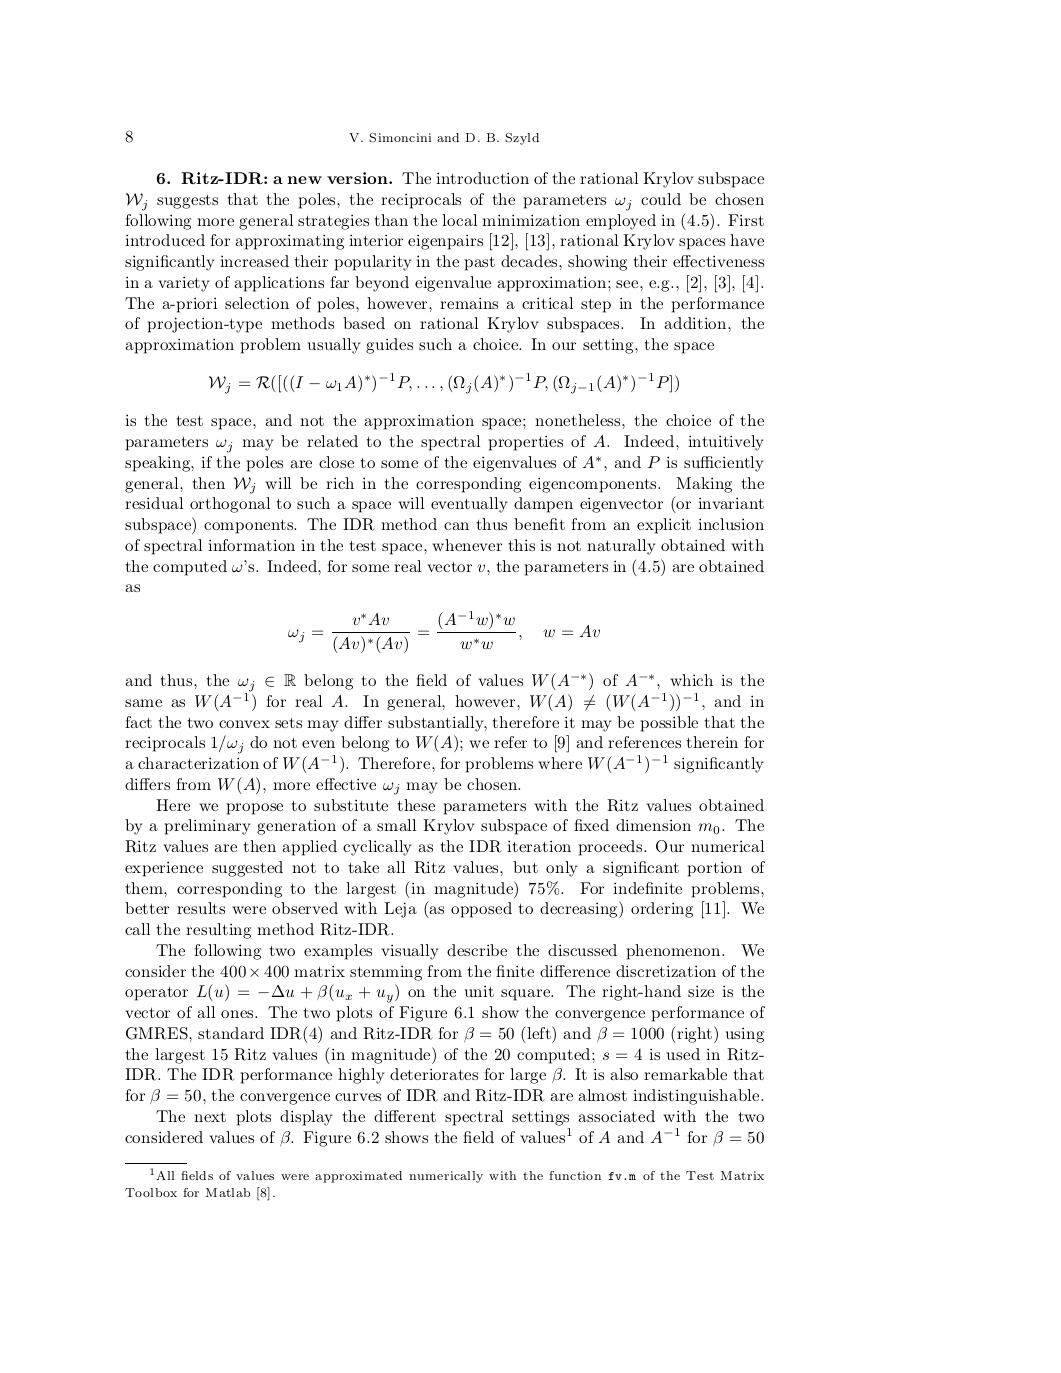formula: (288, 610, 598, 654), (208, 372, 678, 395)
